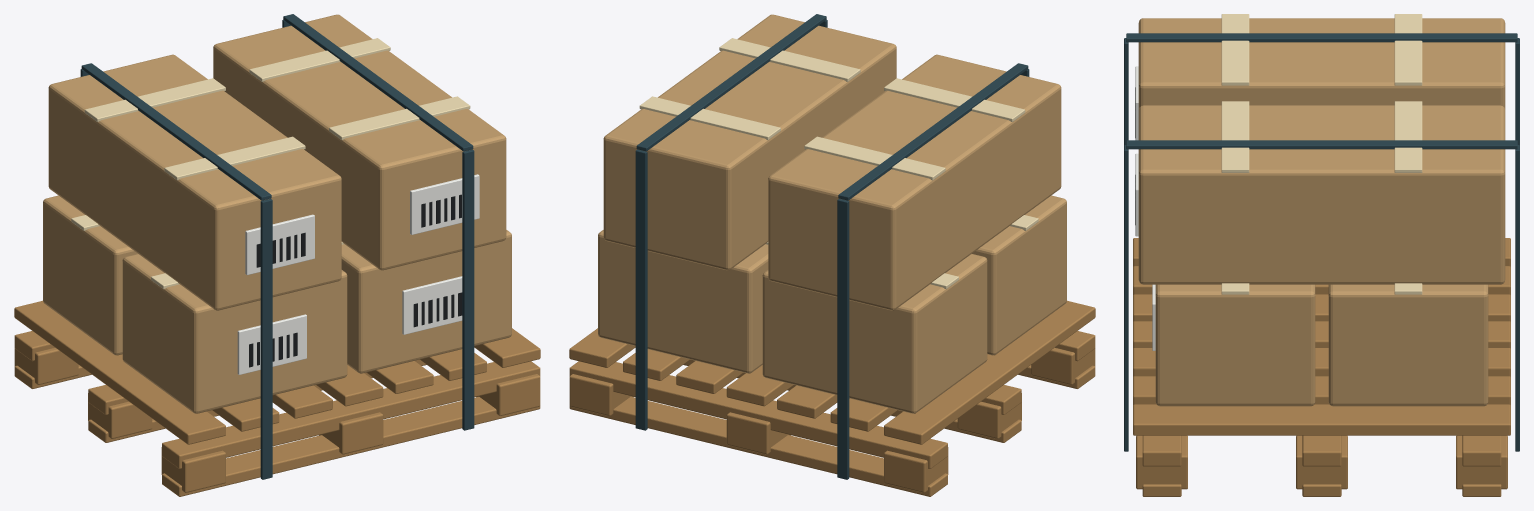
File: carton_load.glb
3 views of the same model, side by side, from view 1: azimuth 30°, elevation 25°; view 2: azimuth 150°, elevation 25°; view 3: azimuth 270°, elevation 25° (orthographic). The views are drawn at different scales.
Visible parts, largest first — view 1: CASE_1_0_0, CASE_1_0_1, CASE_0_0_0, CASE_1_1_0, CASE_0_0_1, CASE_1_1_1, CASE_0_1_0, PALLET_STRINGER_0, PALLET_TOP_DECK_0, PALLET_BOTTOM_0, LOAD_STRAP_FRONT_0.34, LOAD_STRAP_FRONT_-0.34 (+24 smaller); view 2: CASE_1_1_0, CASE_1_1_1, CASE_0_1_0, CASE_1_0_0, CASE_0_1_1, CASE_1_0_1, CASE_0_0_0, PALLET_STRINGER_2, PALLET_TOP_DECK_0, PALLET_BOTTOM_2, LOAD_STRAP_BACK_0.34, LOAD_STRAP_BACK_-0.34 (+20 smaller); view 3: CASE_1_0_1, CASE_1_1_1, CASE_0_0_1, CASE_0_1_1, CASE_1_0_0, CASE_1_1_0, PALLET_TOP_DECK_6, LOAD_STRAP_TOP_0.34, LOAD_STRAP_TOP_-0.34, CASE_TAPE_1_0_0, CASE_TAPE_1_0_1, CASE_TAPE_1_1_0 (+19 smaller).
Part boxes in pixels (<box>): CASE_1_0_0: <box>128,114,341,310</box>; CASE_1_0_1: <box>293,73,506,270</box>; CASE_0_0_0: <box>122,254,347,413</box>; CASE_1_1_0: <box>48,54,259,246</box>; CASE_0_0_1: <box>341,230,511,373</box>; CASE_1_1_1: <box>213,14,418,137</box>; CASE_0_1_0: <box>43,195,137,355</box>; PALLET_STRINGER_0: <box>162,361,540,468</box>; PALLET_TOP_DECK_0: <box>14,300,225,444</box>; PALLET_BOTTOM_0: <box>162,396,540,496</box>; LOAD_STRAP_FRONT_0.34: <box>462,149,474,430</box>; LOAD_STRAP_FRONT_-0.34: <box>260,198,272,479</box>; CASE_1_1_0: <box>768,117,980,310</box>; CASE_1_1_1: <box>603,73,816,270</box>; CASE_0_1_0: <box>762,254,987,413</box>; CASE_1_0_0: <box>850,54,1061,250</box>; CASE_0_1_1: <box>598,230,768,373</box>; CASE_1_0_1: <box>686,14,896,137</box>; CASE_0_0_0: <box>972,195,1066,355</box>; PALLET_STRINGER_2: <box>569,361,947,468</box>; PALLET_TOP_DECK_0: <box>884,300,1095,444</box>; PALLET_BOTTOM_2: <box>569,396,947,496</box>; LOAD_STRAP_BACK_0.34: <box>635,149,647,430</box>; LOAD_STRAP_BACK_-0.34: <box>837,198,849,479</box>; CASE_1_0_1: <box>1138,105,1327,284</box>; CASE_1_1_1: <box>1316,105,1505,284</box>; CASE_0_0_1: <box>1155,284,1315,406</box>; CASE_0_1_1: <box>1328,284,1488,406</box>; CASE_1_0_0: <box>1138,18,1327,109</box>; CASE_1_1_0: <box>1316,18,1505,109</box>; PALLET_TOP_DECK_6: <box>1133,404,1510,435</box>; LOAD_STRAP_TOP_0.34: <box>1126,140,1517,149</box>; LOAD_STRAP_TOP_-0.34: <box>1126,33,1517,42</box>; CASE_TAPE_1_0_0: <box>1221,14,1249,85</box>; CASE_TAPE_1_0_1: <box>1221,101,1249,172</box>; CASE_TAPE_1_1_0: <box>1394,14,1422,85</box>.
Size of the model in its own units: 1.22 by 0.9265 by 1.06.
